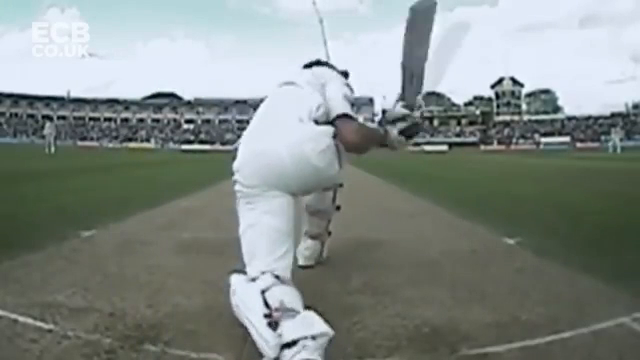batsman: (224, 59, 391, 360)
